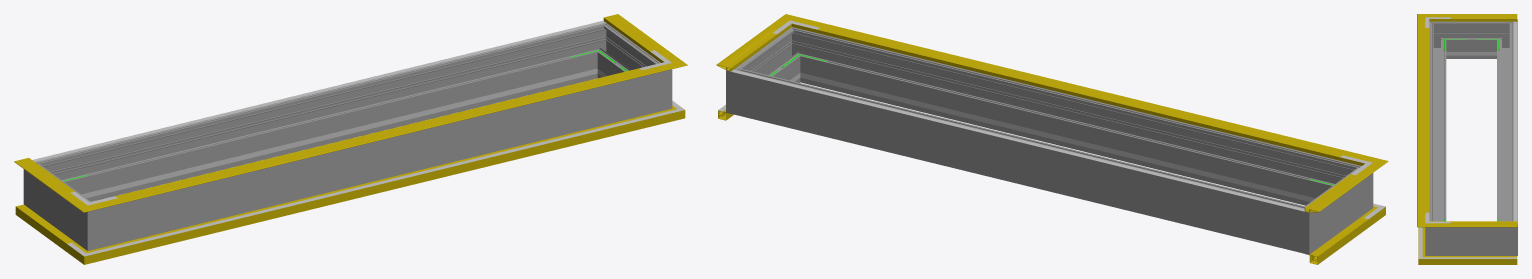
3 views of the same model, side by side, from view 1: azimuth 30°, elevation 25°; view 2: azimuth 150°, elevation 25°; view 3: azimuth 270°, elevation 25° (orthographic). The views are drawn at different scales.
Visible parts, largest first — view 1: 3DGeom-276, 3DGeom-298, 3DGeom-11, 3DGeom-141, 3DGeom-244, 3DGeom-220, 3DGeom-270, 3DGeom-20, 3DGeom-158, 3DGeom-290, 3DGeom-284, 3DGeom-297 (+6 smaller); view 2: 3DGeom-298, 3DGeom-276, 3DGeom-141, 3DGeom-239, 3DGeom-278, 3DGeom-220, 3DGeom-158, 3DGeom-284, 3DGeom-290, 3DGeom-297, 3DGeom-268, 3DGeom-270 (+4 smaller); view 3: 3DGeom-276, 3DGeom-298, 3DGeom-141, 3DGeom-268, 3DGeom-297, 3DGeom-220, 3DGeom-158, 3DGeom-284, 3DGeom-290, 3DGeom-278, 3DGeom-270, 3DGeom-16 (+15 smaller).
Boxes of the visible parts, bbox=[...] form: 3DGeom-276: bbox=[56, 29, 592, 201]; 3DGeom-298: bbox=[118, 76, 642, 243]; 3DGeom-11: bbox=[110, 114, 654, 257]; 3DGeom-141: bbox=[108, 68, 657, 205]; 3DGeom-244: bbox=[92, 75, 568, 196]; 3DGeom-220: bbox=[32, 20, 605, 161]; 3DGeom-270: bbox=[70, 194, 117, 250]; 3DGeom-20: bbox=[112, 115, 654, 248]; 3DGeom-158: bbox=[115, 68, 641, 197]; 3DGeom-290: bbox=[642, 55, 672, 115]; 3DGeom-284: bbox=[581, 23, 620, 79]; 3DGeom-297: bbox=[600, 33, 649, 77]; 3DGeom-298: bbox=[805, 33, 1340, 205]; 3DGeom-276: bbox=[756, 73, 1284, 247]; 3DGeom-141: bbox=[807, 21, 1357, 162]; 3DGeom-239: bbox=[829, 80, 1304, 200]; 3DGeom-278: bbox=[1279, 197, 1326, 254]; 3DGeom-220: bbox=[730, 69, 1304, 211]; 3DGeom-158: bbox=[817, 28, 1342, 157]; 3DGeom-284: bbox=[726, 59, 761, 119]; 3DGeom-290: bbox=[777, 27, 816, 83]; 3DGeom-297: bbox=[748, 37, 797, 82]; 3DGeom-268: bbox=[1317, 176, 1355, 241]; 3DGeom-270: bbox=[1328, 161, 1373, 220]; 3DGeom-276: bbox=[1497, 30, 1517, 221]; 3DGeom-298: bbox=[1429, 30, 1446, 221]; 3DGeom-141: bbox=[1417, 24, 1425, 215]; 3DGeom-268: bbox=[1450, 21, 1492, 58]; 3DGeom-297: bbox=[1450, 227, 1492, 255]; 3DGeom-220: bbox=[1513, 21, 1517, 223]; 3DGeom-158: bbox=[1425, 28, 1429, 212]; 3DGeom-284: bbox=[1492, 215, 1517, 255]; 3DGeom-290: bbox=[1425, 215, 1450, 255]; 3DGeom-278: bbox=[1492, 19, 1517, 58]; 3DGeom-270: bbox=[1429, 21, 1450, 58]; 3DGeom-16: bbox=[1443, 256, 1517, 264].
Bounding box in the file's own units: 3.05 × 0.2596 × 0.6096.
